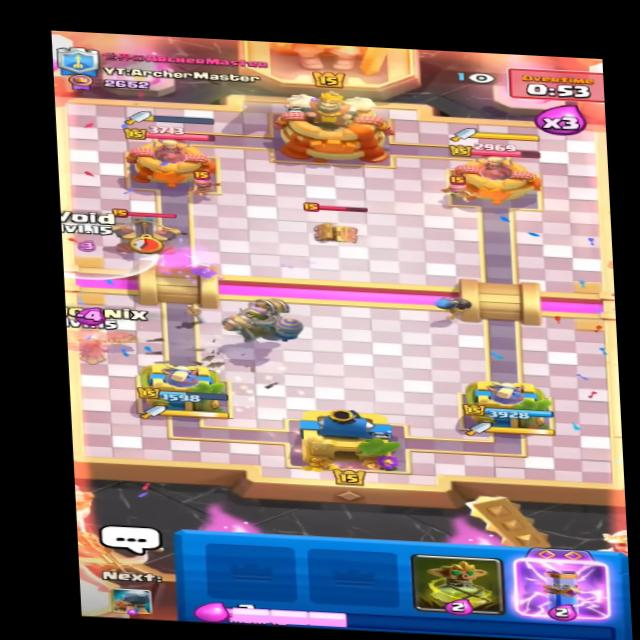archer: (186, 170, 225, 196), (436, 177, 479, 200)
tesla-closed: (303, 202, 374, 247)
x-bow: (94, 203, 189, 258)
